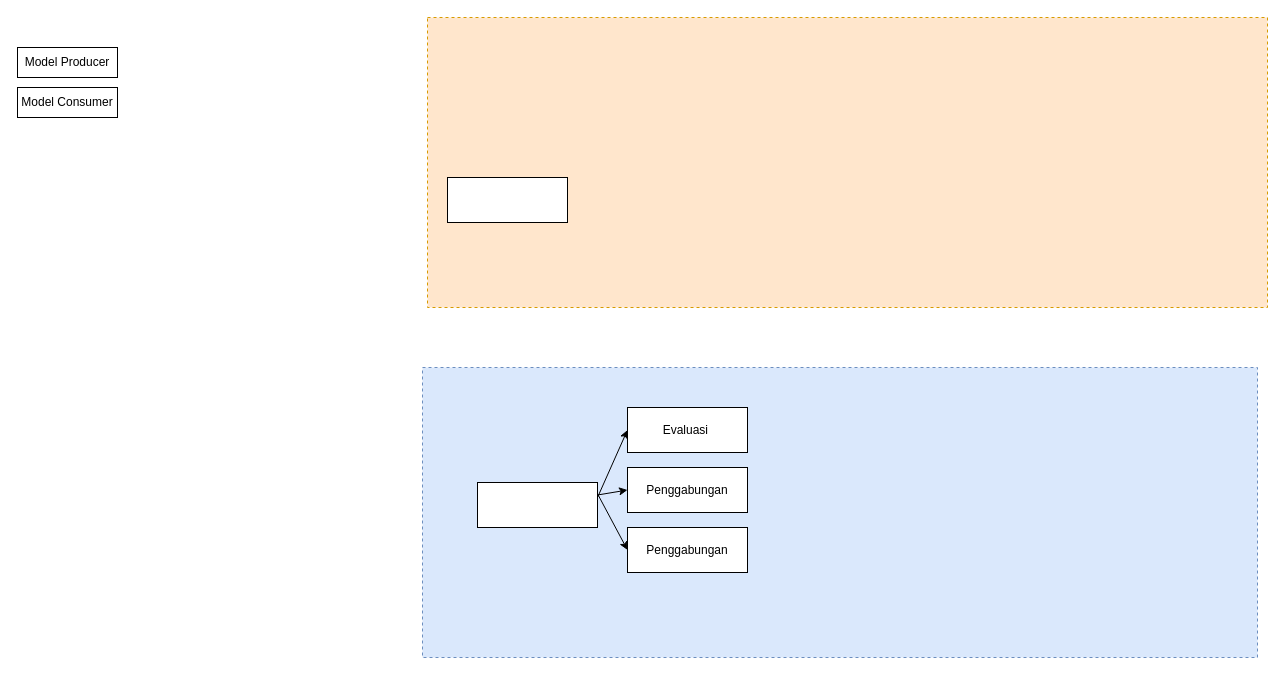
Image size: 1285x675. Some labels were removed from this diagram. The shapes that lost their labels are listed below. From the top down, each one's centre as x and y in pixels, then its label:
At point (507, 199): "Data Stream".
At point (537, 505): "fungsi OML".
